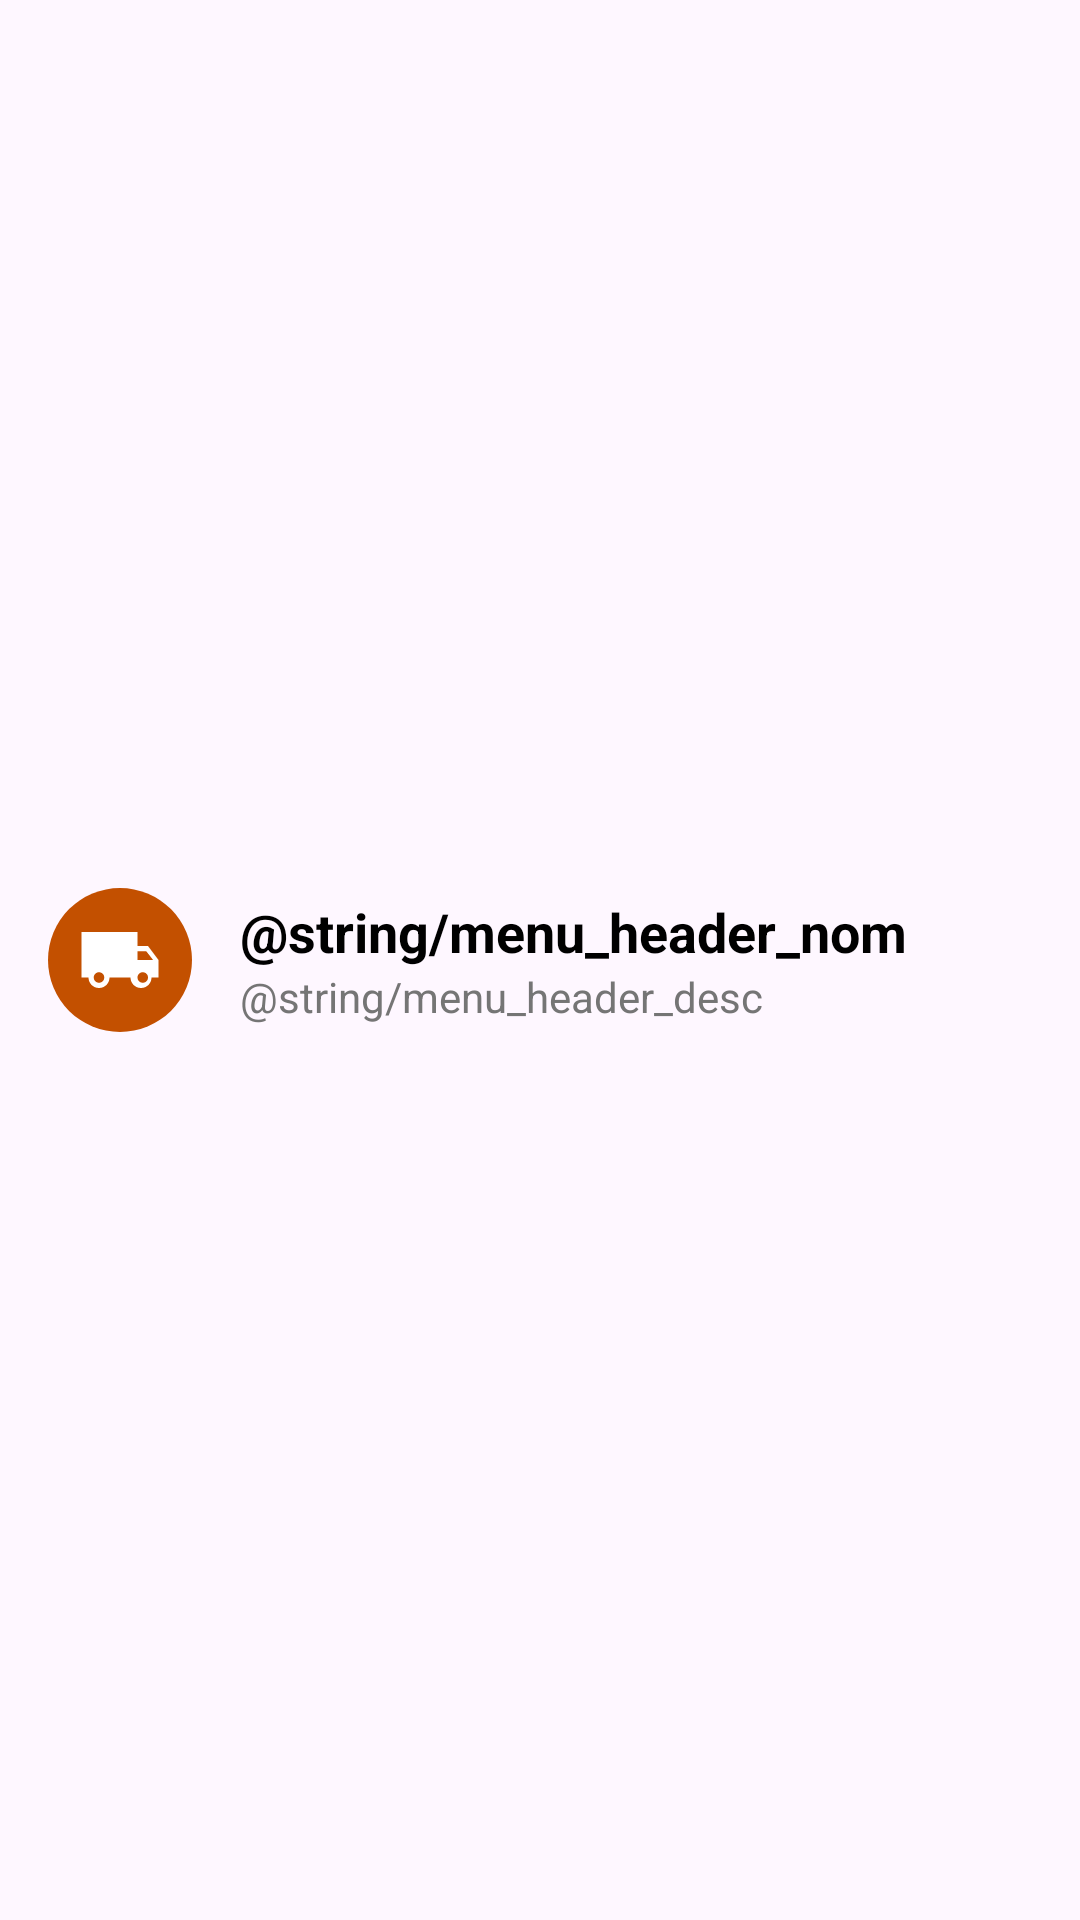

Where to tap for icons on this 1080x1920 app screen, as (x=x, y=y):
truck: (x=120, y=960)
